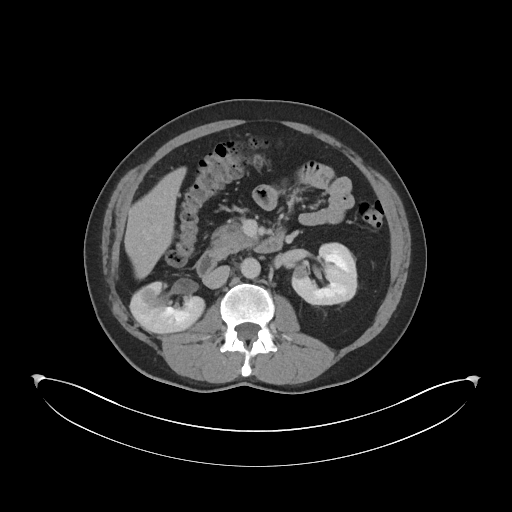Lesion: (291, 262, 312, 281)
